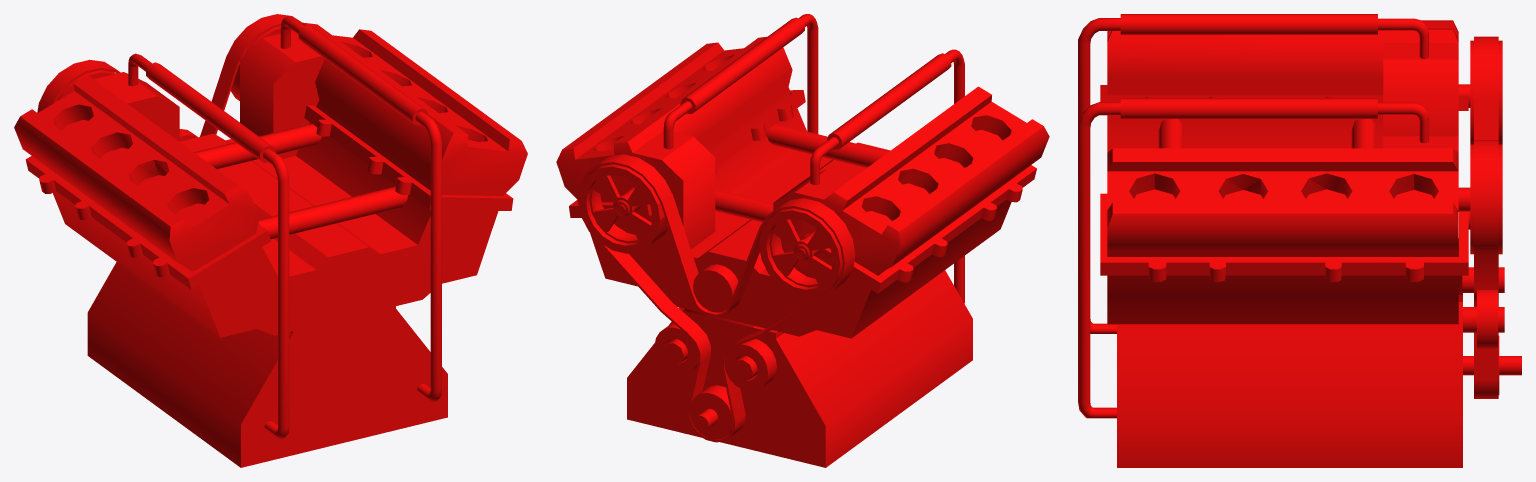
Rendered from engine_low.FBX.
The picture shows the model from 3 angles, left to right: view 1: azimuth 30°, elevation 25°; view 2: azimuth 150°, elevation 25°; view 3: azimuth 270°, elevation 25°; orthographic projection. The views are drawn at different scales.
Parts seen in each view (by area): view 1: Motor_low, bloc_low, Jm001, pipe_low, pipe_low001, Object061, banda_low, rotite_low; view 2: Motor_low, bloc_low, rotite_low, banda_low, Jm001, pipe_low001, pipe_low, Object061, Blade_low, Blade_low001, Object058; view 3: Motor_low, bloc_low, pipe_low001, Jm001, pipe_low, banda_low, rotite_low, Object058, Object061.
Boxes of the visible parts, box(x1,y1,x2,y2) form: Motor_low: box(14, 22, 527, 337); bloc_low: box(87, 262, 447, 467); Jm001: box(25, 105, 513, 289); pipe_low: box(128, 53, 289, 438); pipe_low001: box(280, 16, 441, 401); Object061: box(194, 123, 407, 239); banda_low: box(37, 14, 302, 136); rotite_low: box(56, 26, 292, 141); Motor_low: box(556, 36, 1049, 338); bloc_low: box(627, 270, 972, 467); rotite_low: box(578, 164, 842, 439); banda_low: box(577, 154, 855, 442); Jm001: box(569, 90, 1036, 293); pipe_low001: box(663, 14, 818, 149); pipe_low: box(810, 49, 964, 303); Object061: box(715, 124, 888, 222); Blade_low: box(769, 218, 831, 287); Blade_low001: box(589, 174, 651, 243); Object058: box(664, 338, 757, 430); Motor_low: box(1107, 20, 1458, 324); bloc_low: box(1117, 238, 1462, 467); pipe_low001: box(1078, 98, 1428, 418); Jm001: box(1100, 85, 1468, 281); pipe_low: box(1078, 14, 1428, 333); banda_low: box(1474, 36, 1498, 398); rotite_low: box(1470, 40, 1502, 394); Object058: box(1462, 267, 1521, 375); Object061: box(1158, 119, 1376, 148).
Bounding box in the file's own units: 129 × 108 × 122.
